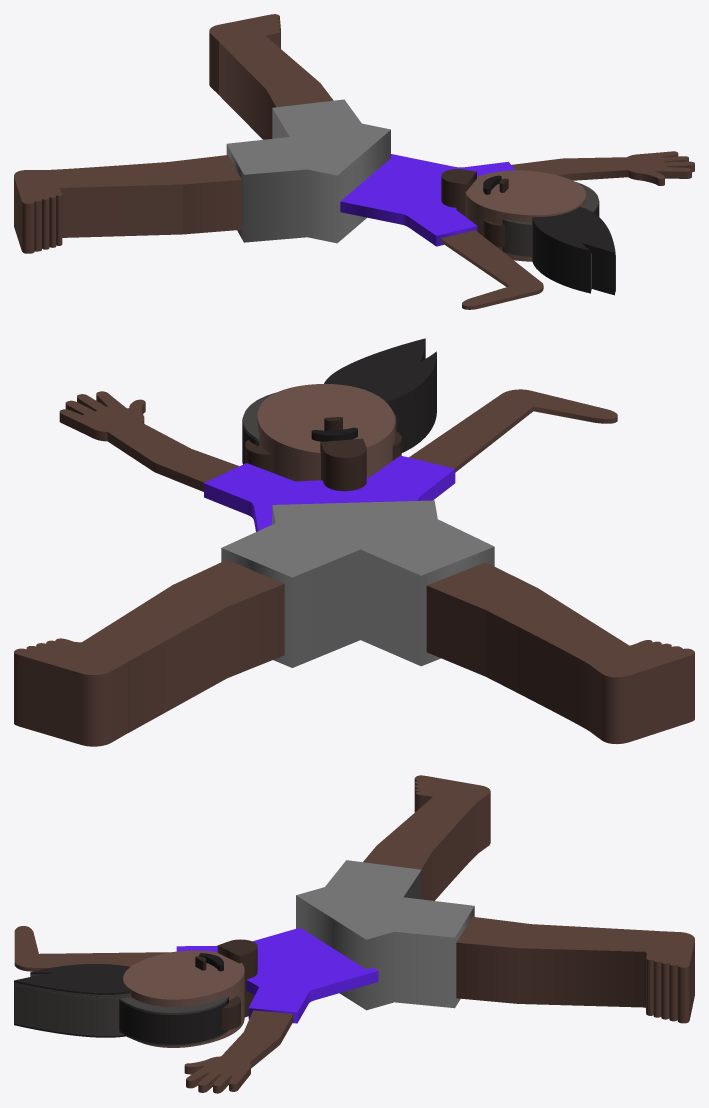
File: emoji_u1f938_1f3ff_200d_2640.glb
The picture shows the model from 3 angles, top to bottom: view 1: azimuth 30°, elevation 25°; view 2: azimuth 150°, elevation 25°; view 3: azimuth 270°, elevation 25°; orthographic projection. The views are drawn at different scales.
Visible parts, largest first — view 1: emoji_u1f938_1f3ff_200d_2640; view 2: emoji_u1f938_1f3ff_200d_2640; view 3: emoji_u1f938_1f3ff_200d_2640.
Part boxes in pixels (x1,y1,x2,y2): emoji_u1f938_1f3ff_200d_2640: (14,14,694,309); emoji_u1f938_1f3ff_200d_2640: (14,338,694,746); emoji_u1f938_1f3ff_200d_2640: (14,775,694,1093).
Size of the model in its own units: 0.0333 by 0.0038 by 0.0332.
